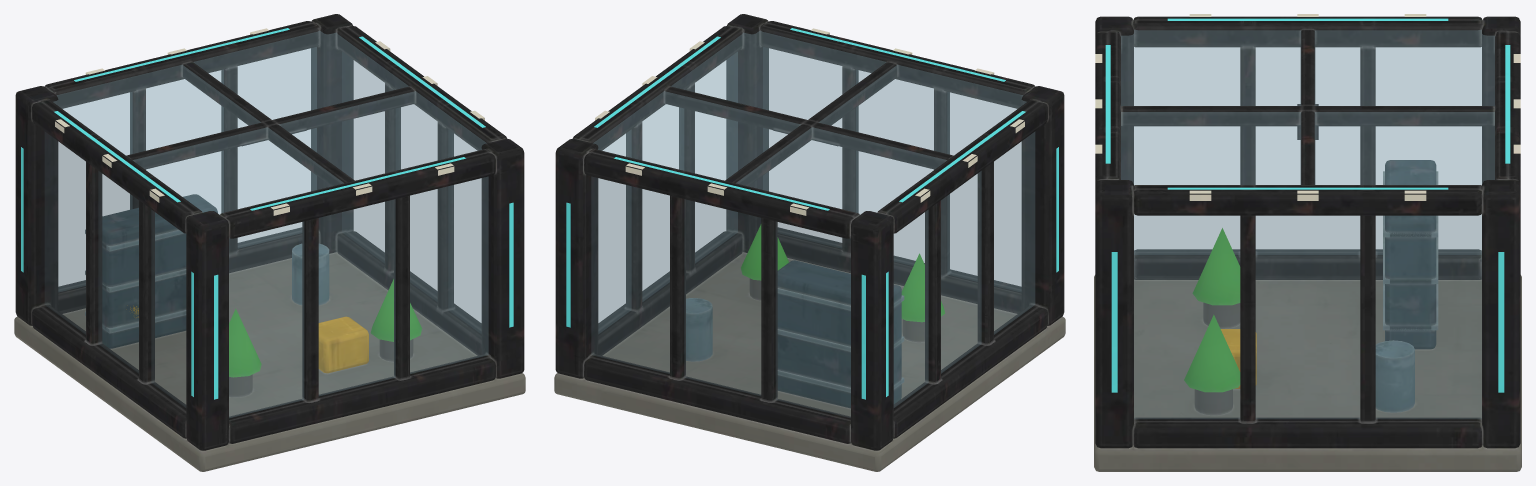
The model's file is hull_glass_carbon_closed.glb.
3 views of the same model, side by side, from view 1: azimuth 30°, elevation 25°; view 2: azimuth 150°, elevation 25°; view 3: azimuth 270°, elevation 25° (orthographic). The views are drawn at different scales.
Visible parts, largest first — view 1: te_hull_glass_carbon_closed; view 2: te_hull_glass_carbon_closed; view 3: te_hull_glass_carbon_closed.
Part boxes in pixels (x1,y1,x2,y2): te_hull_glass_carbon_closed: (14,14,525,471); te_hull_glass_carbon_closed: (554,14,1065,471); te_hull_glass_carbon_closed: (1094,14,1521,471).
Size of the model in its own units: 1 by 0.7218 by 1.
Materials: 2 (1 with a texture image).
